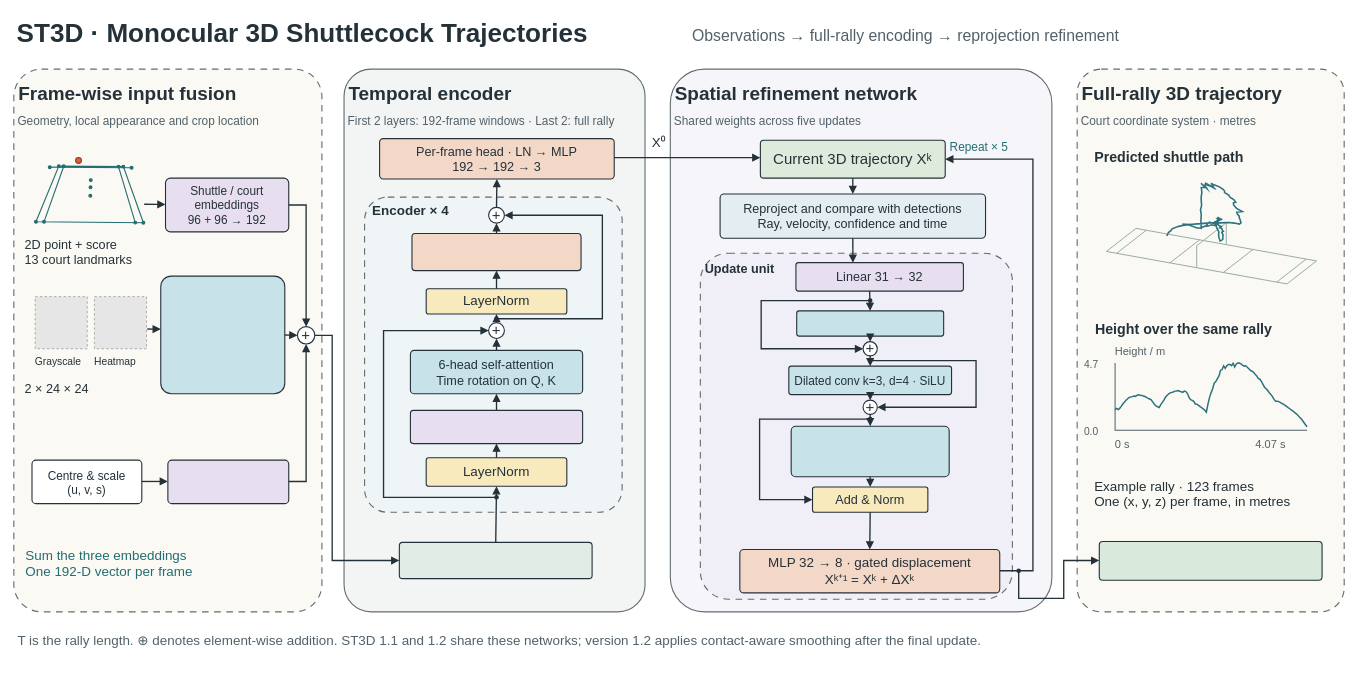
The diagram is 1359 pixels wide and 675 high, and some of its shapes have lost their labels. Grey dashed boxes stand in for pictures. Here are the shapes that lost their labels. From the top down, the box of each, then its label:
(411, 232, 581, 271): Feed-forward · GELU 192 → 768 → 192
(160, 275, 285, 394): 3 × 3 conv + GELU 2 → 16 → 32 → 32 AvgPool · flatten 288 → 192 · LN
(796, 310, 944, 336): Temporal conv k=5 · SiLU
(409, 409, 583, 444): Q, K, V projections
(790, 425, 949, 477): 16-frame mean pooling 4-head global attention Broadcast to all frames
(167, 459, 289, 504): Linear projection 3 → 192
(398, 541, 592, 579): Frame tokens T × 192
(1098, 541, 1322, 580): Output X⁵ T × 3
